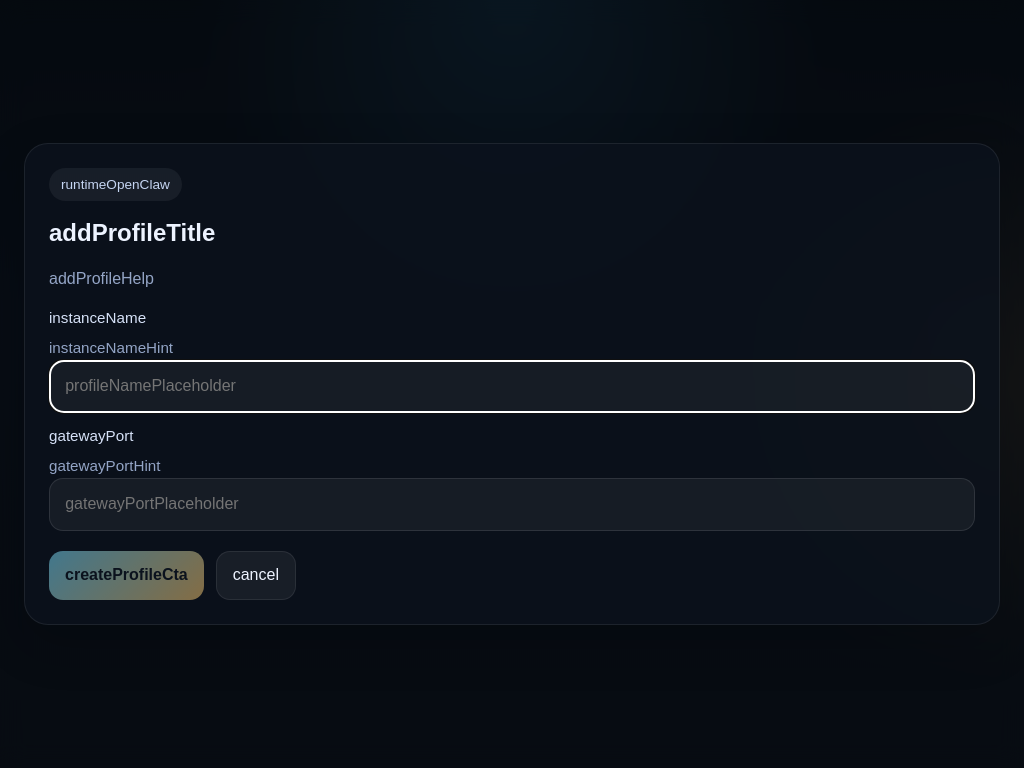
Test: AddInstanceDialog › keeps main reserved for managed OpenClaw profiles
Type "main" into the field with placeholder "profileNamePlaceholder" at x=512, y=386, box [49,360,975,413]
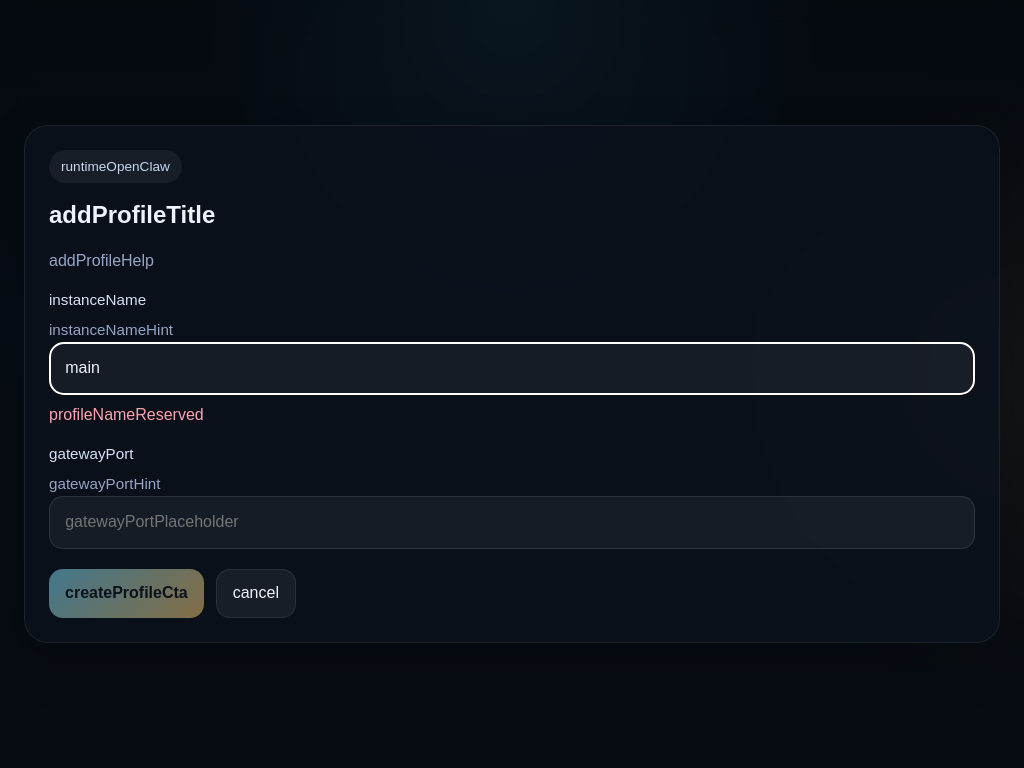
Expected: the button "createProfileCta" is disabled, [49,569,204,618]
Expected: the text "profileNameReserved" is shown, [49,406,204,423]
